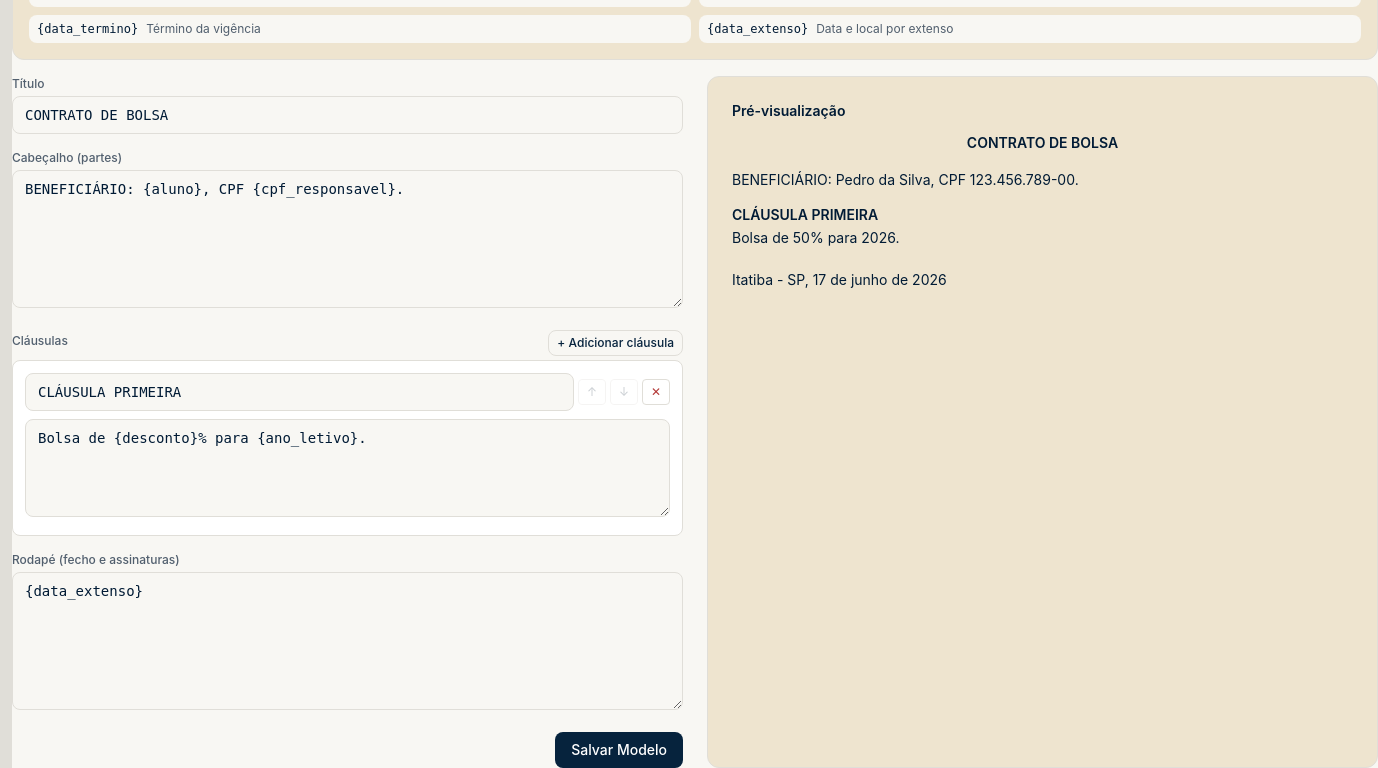
it: ContractTemplateEditor › saves the template via the action
(page scrolled)
Click the button with test id "save-contract-button".
click(619, 750)  # box x1=555 y1=732 x2=683 y2=767
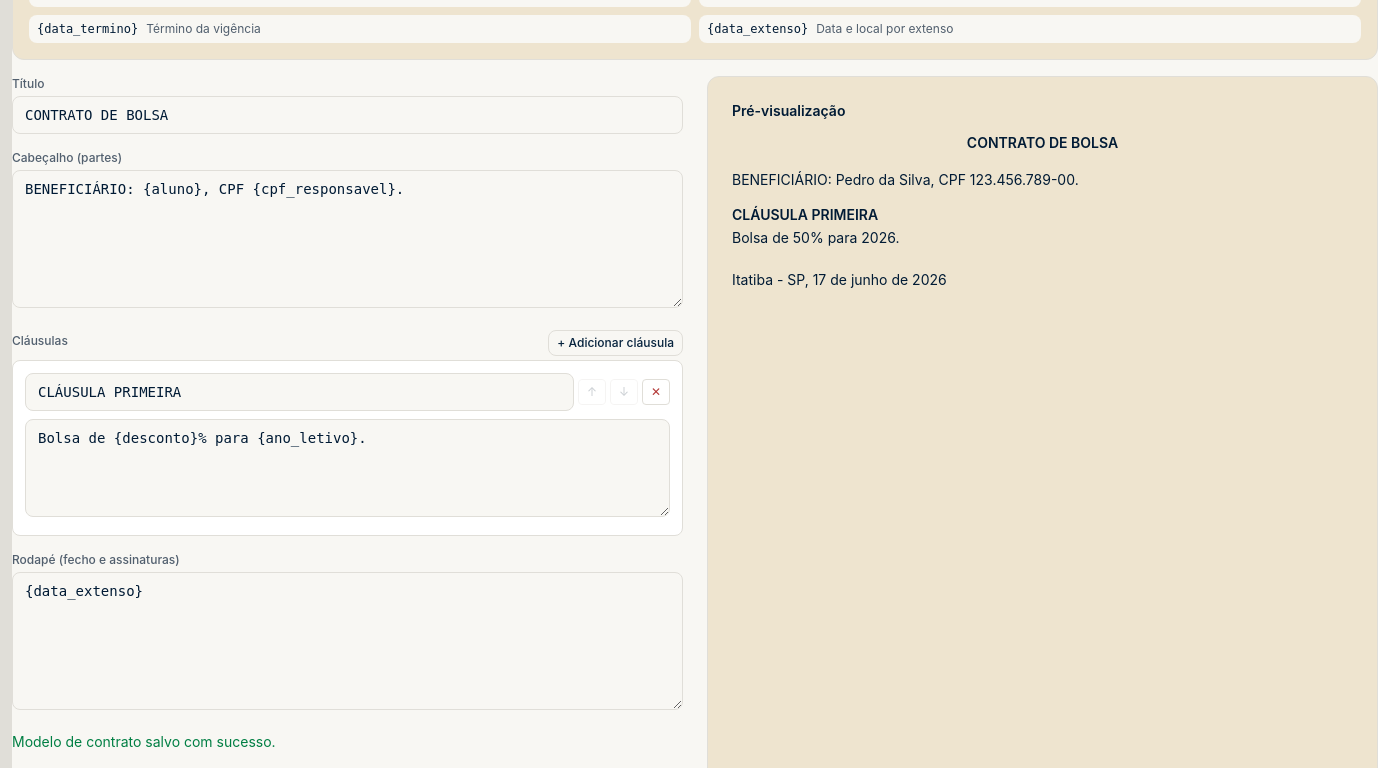
Expected: the text with test id "contract-save-message" shows "salvo com sucesso", x1=12 y1=733 x2=276 y2=750
